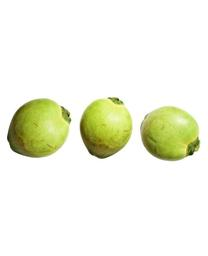coconut: (6, 98, 70, 158), (140, 105, 200, 161), (79, 96, 132, 159)
